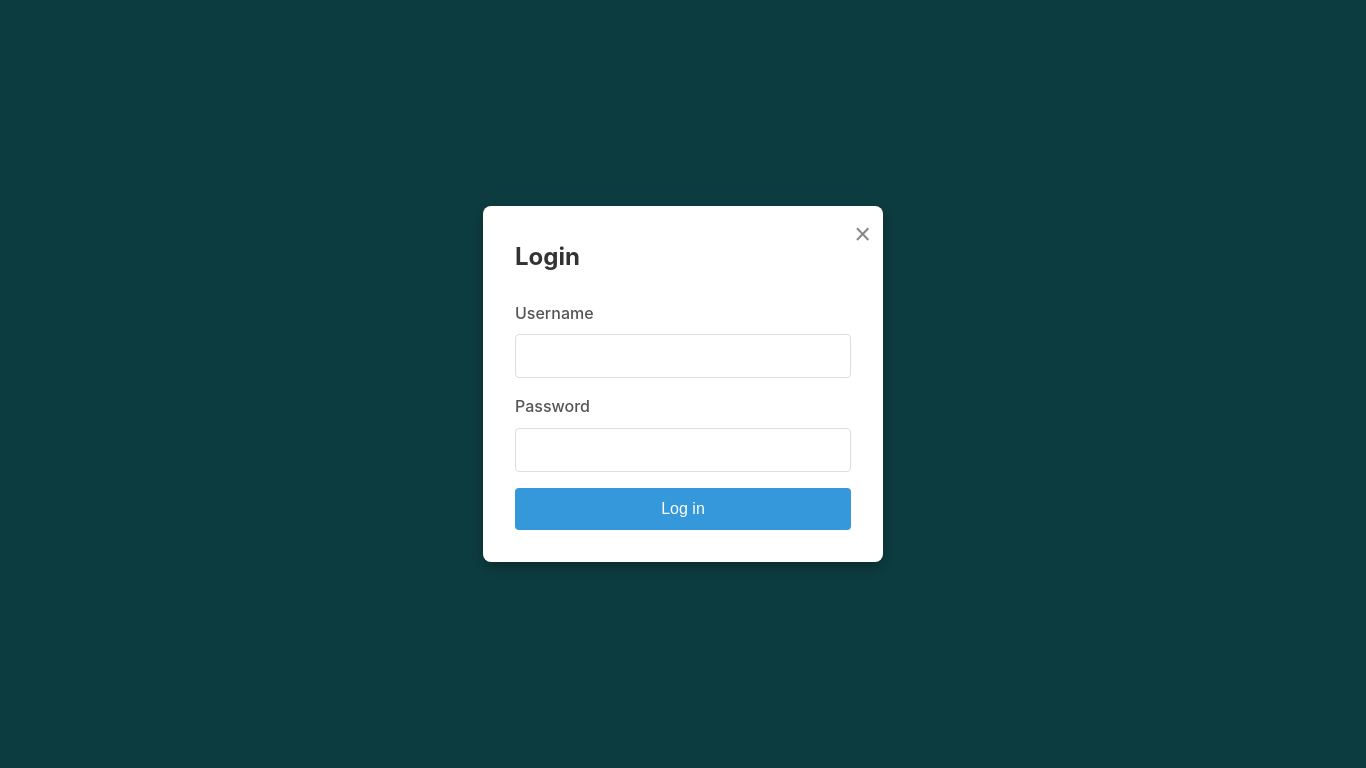
Login › should handle unsuccessful login due to API error
In the field labelled "Username": [683, 356] box [515,334,851,378], type "testuser"
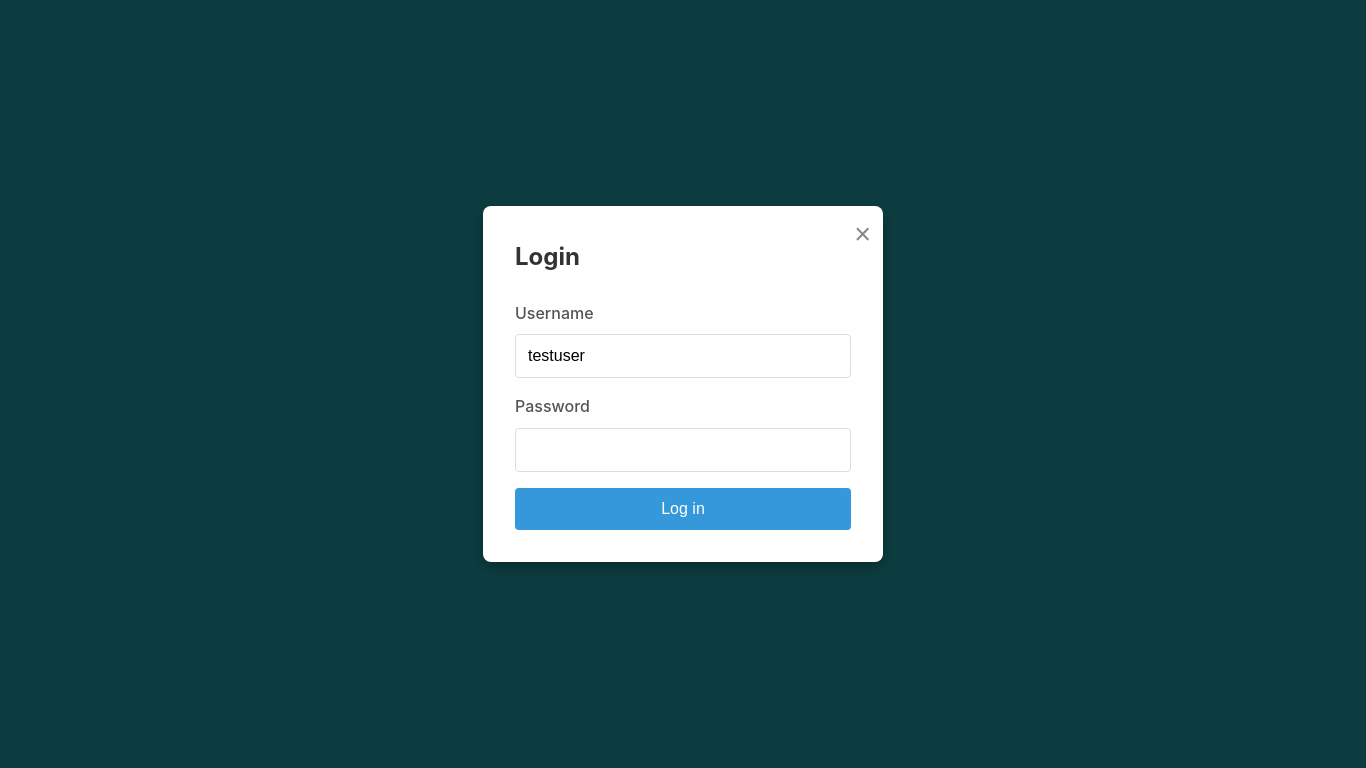
In the password field labelled "Password": [683, 450] box [515,428,851,472], type "wrongpassword"
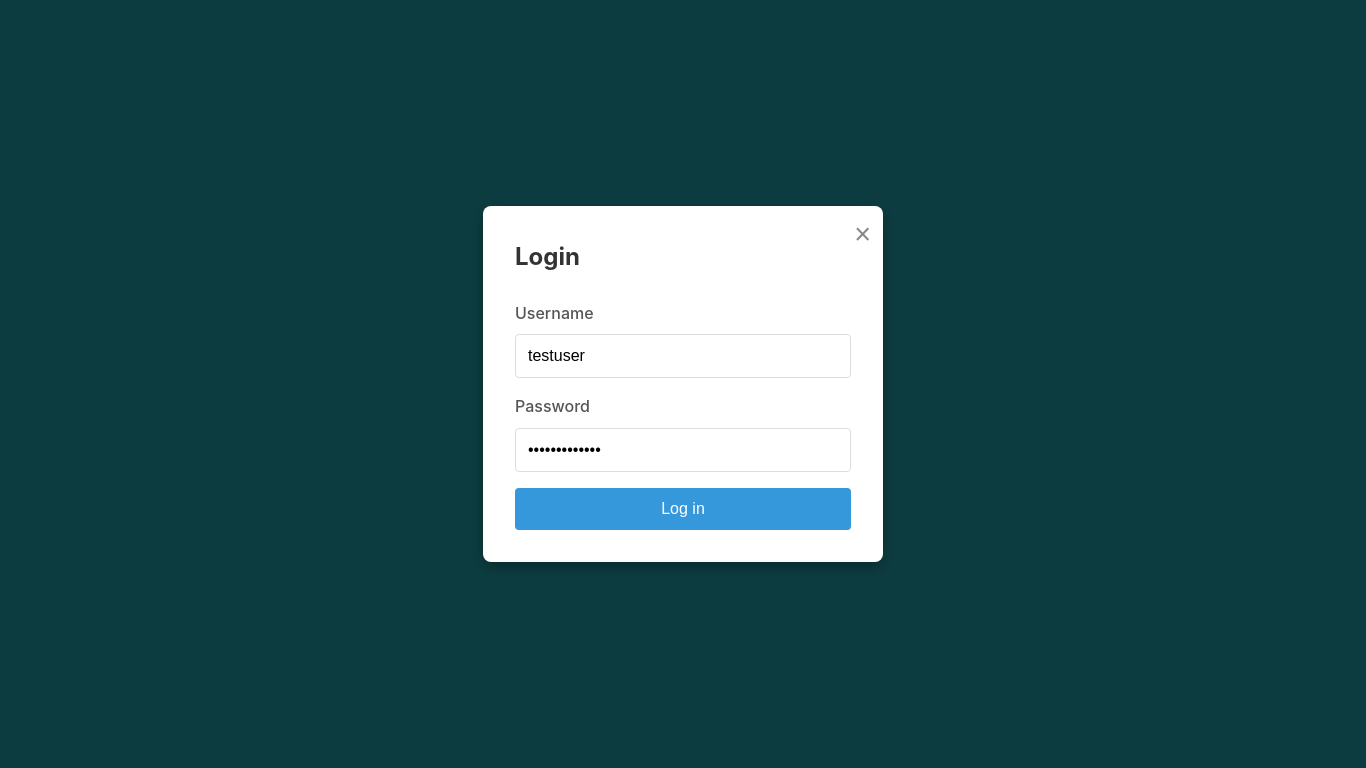
Click the button "Log in": [683, 509] box [515,488,851,530]
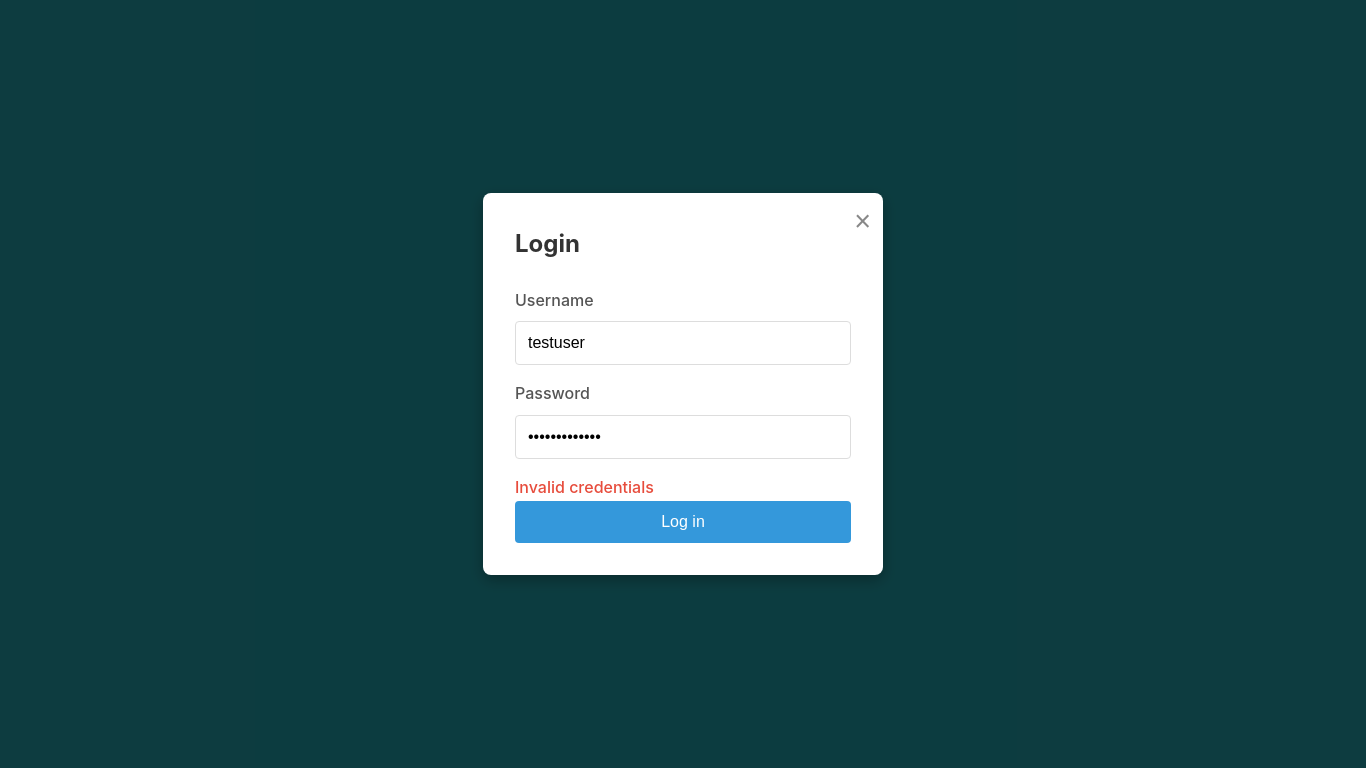
Expected: the text "Invalid credentials" is shown, [515,477,654,497]
